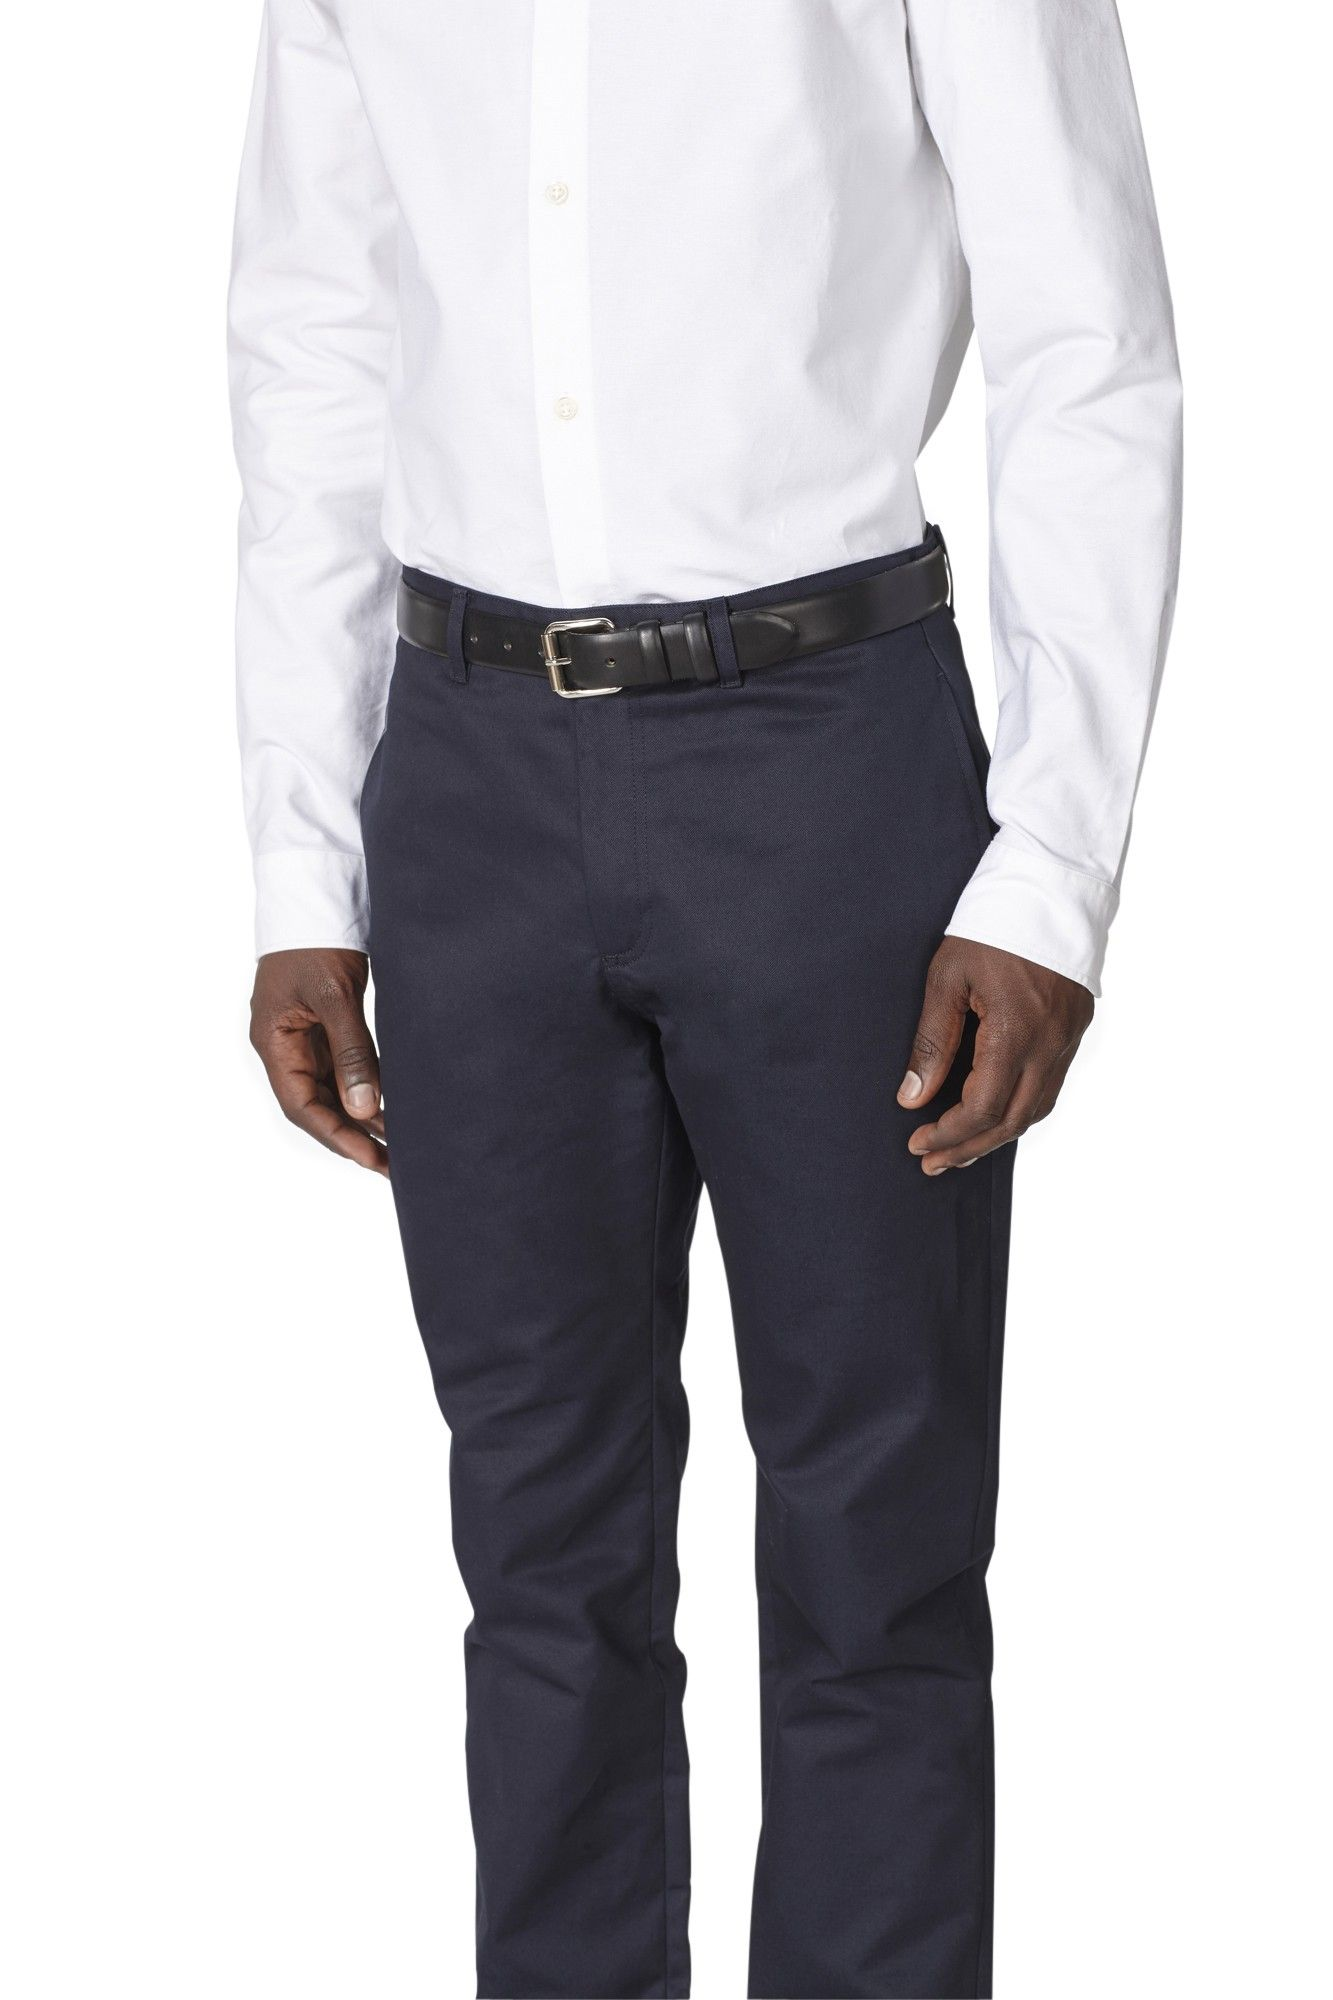F_belt: (372, 575, 961, 700)
F_dress pants: (333, 562, 1038, 2000)
F_shirt: (245, 7, 1184, 1017)
